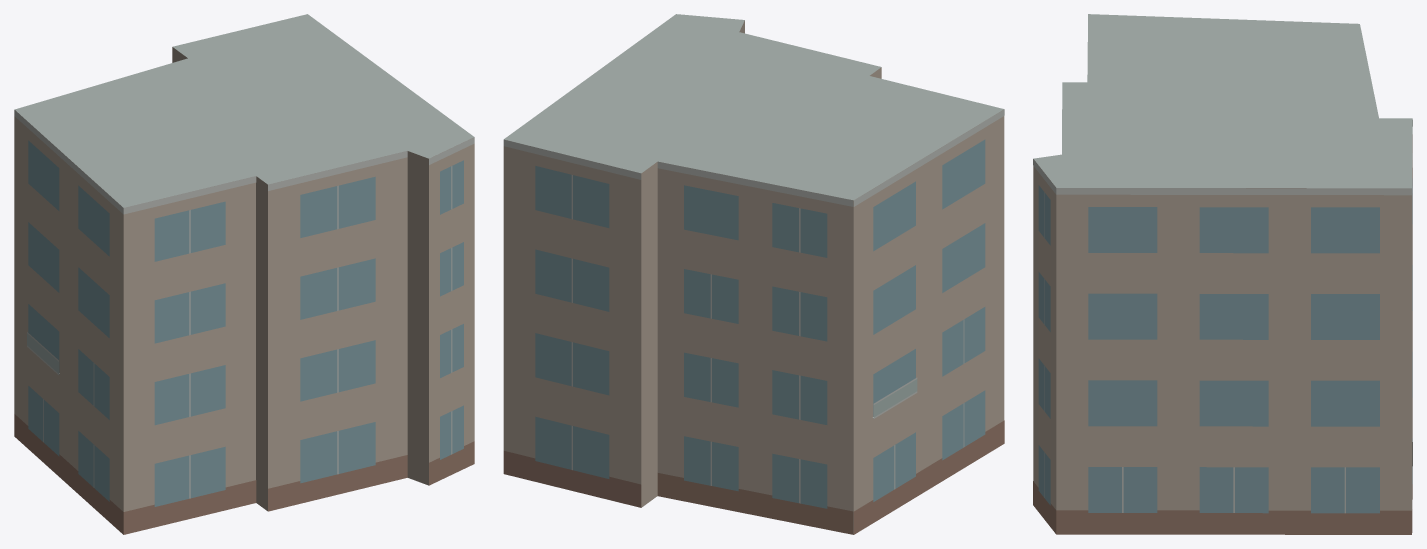
Rendered from residential-f5ecb508-221b-4106-bbd1-e2ad354625b9.glb.
3 views of the same model, side by side, from view 1: azimuth 30°, elevation 25°; view 2: azimuth 150°, elevation 25°; view 3: azimuth 270°, elevation 25° (orthographic). The views are drawn at different scales.
Parts seen in each view (by area): view 1: residential-f5ecb508-221b-4106-bbd1-e2ad354625b9.tmp; view 2: residential-f5ecb508-221b-4106-bbd1-e2ad354625b9.tmp; view 3: residential-f5ecb508-221b-4106-bbd1-e2ad354625b9.tmp.
Boxes of the visible parts, x1,y1,x2,y2 form: residential-f5ecb508-221b-4106-bbd1-e2ad354625b9.tmp: [14, 14, 474, 534]; residential-f5ecb508-221b-4106-bbd1-e2ad354625b9.tmp: [503, 14, 1004, 534]; residential-f5ecb508-221b-4106-bbd1-e2ad354625b9.tmp: [1033, 14, 1412, 534].
Bounding box in the file's own units: 13.16 × 12.2 × 12.11.
